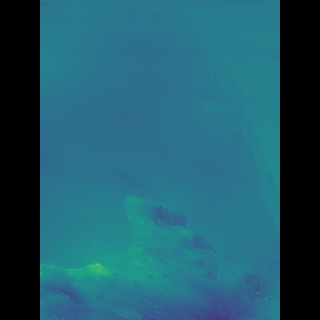Loch: (70, 189, 247, 320)
